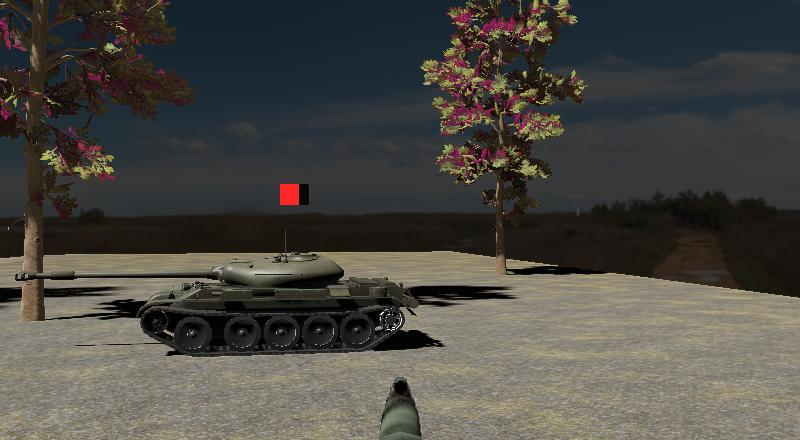Tank: (15, 246, 417, 359)
